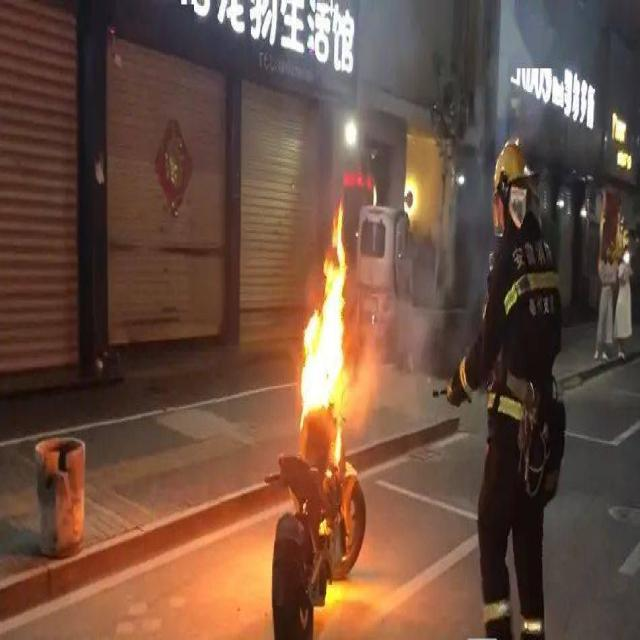Fire: (299, 200, 347, 414)
